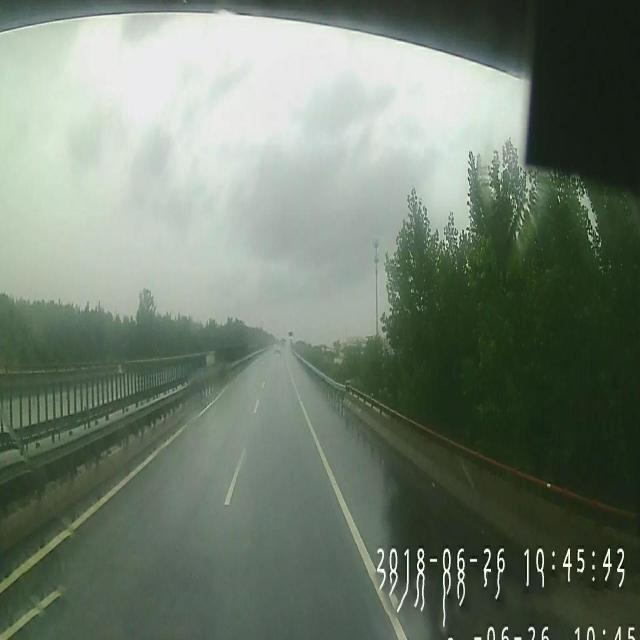car: (273, 339, 281, 357)
